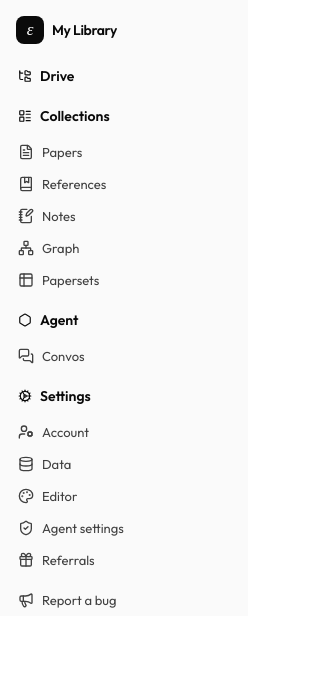
it: Sidebar › shows badge dot when any item sits in the Trash folder
Drive is collapsed by default — expand it first
What coordinates should you click on to do the following:
click the button "Drive"
I would click on:
 (124, 76)
Its box is x1=8 y1=60 x2=240 y2=92.
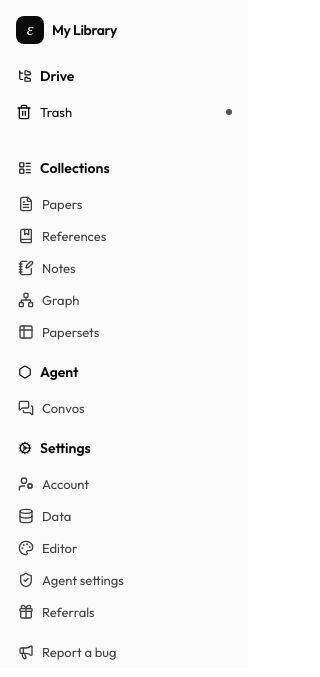
Expected: the element with test id "sidebar-trash-badge" is shown, x1=226 y1=109 x2=232 y2=115
